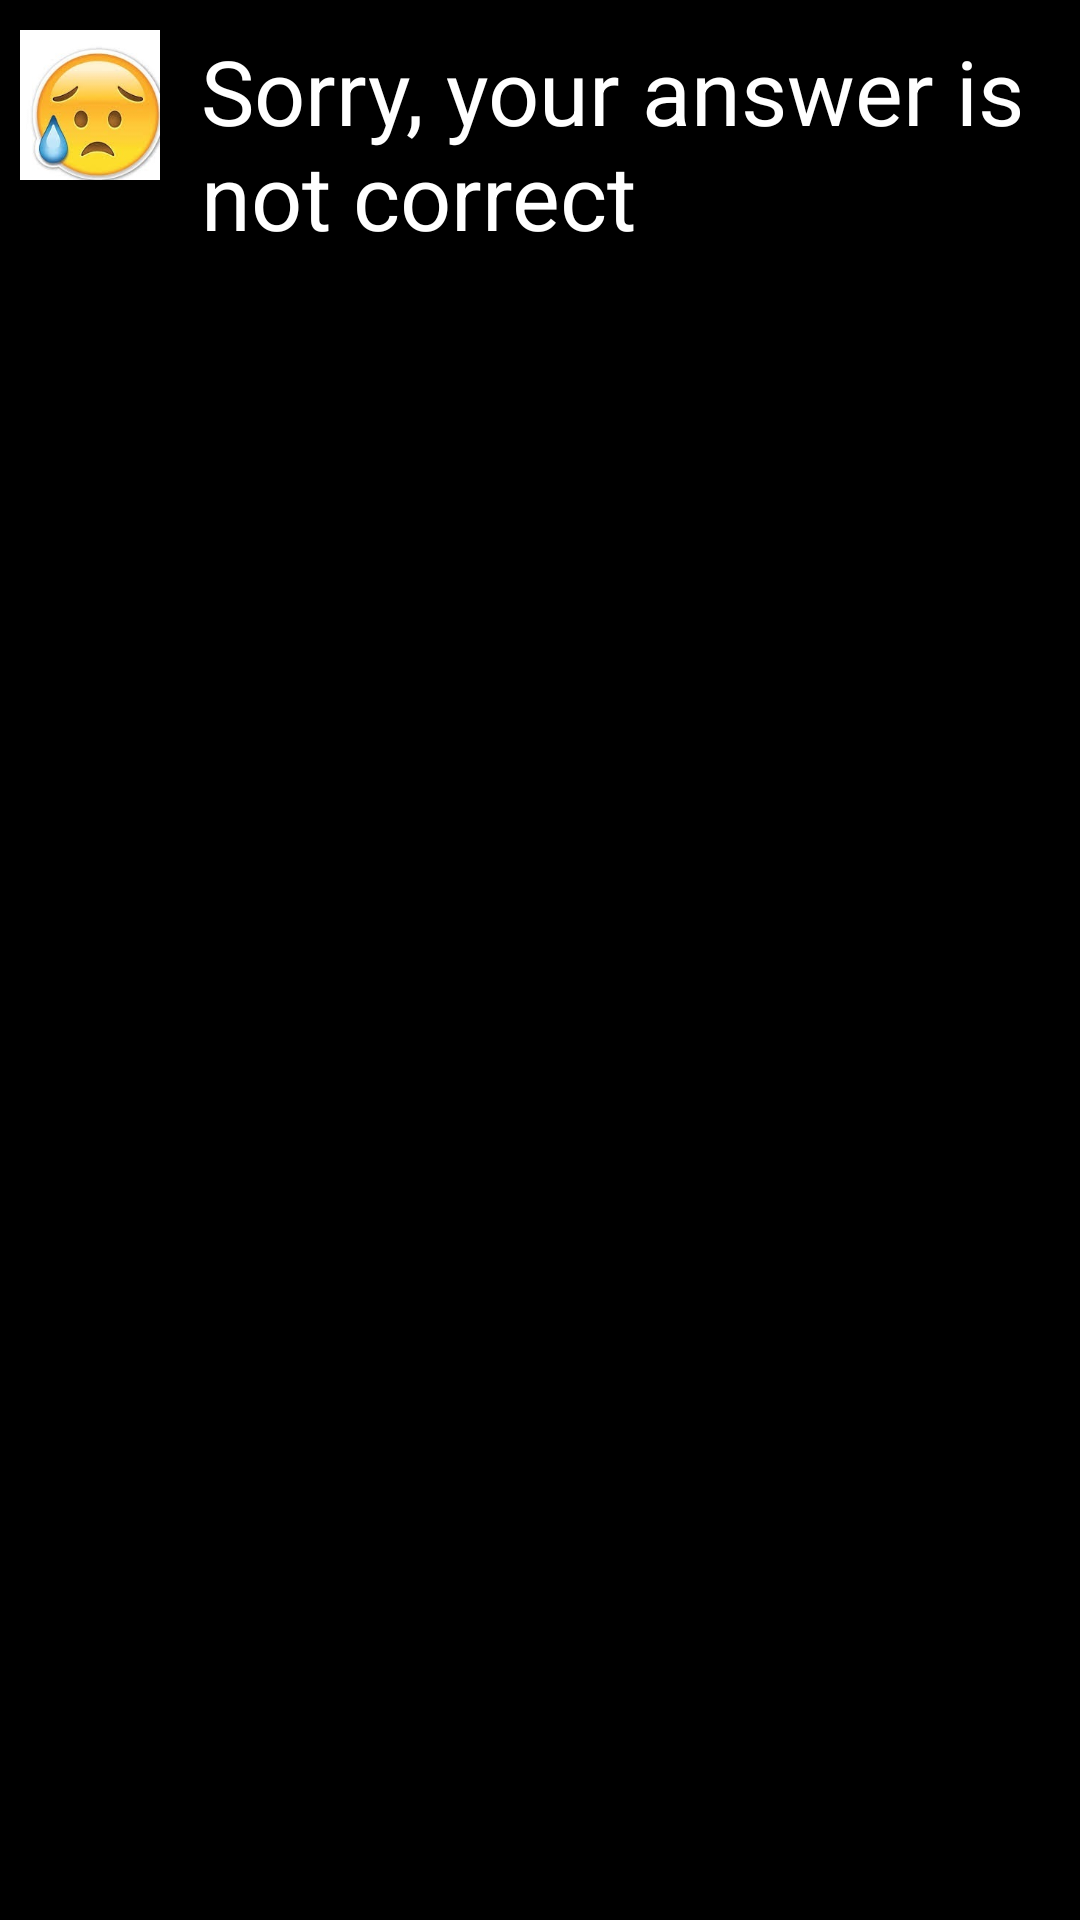

Point at icon controls on the screen. Image size 1080px x 1920px, points as point (x, y).
customtoastsad: point (90, 105)
